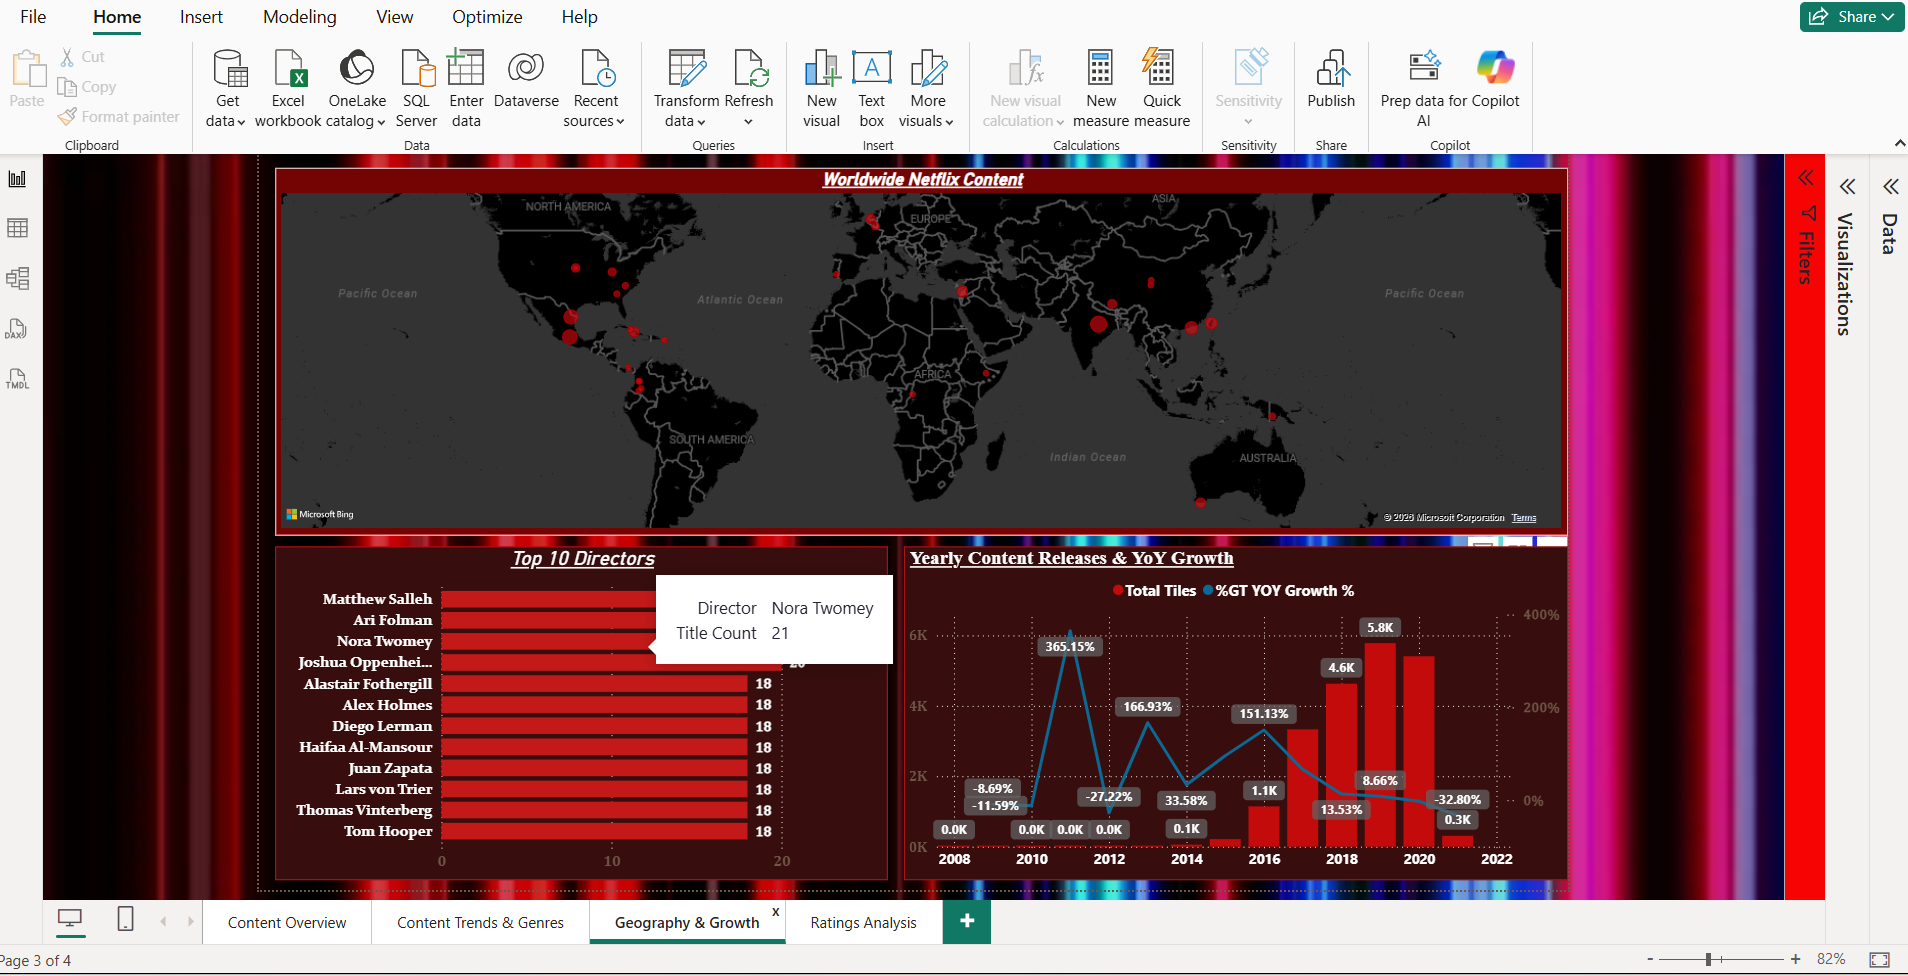

The page's visual inventory and layout, read from the dashboard file:
{"tool":"powerbi","page":{"name":"Page 4","canvas":[1280,720],"ordinal":2},"visuals":[{"type":"map","title":"Worldwide Netflix Content","fields":{"Category":["Netflix Dataset.Country"],"Size":["Count(Netflix Dataset.Show_Id)"]},"box":[15.9,13.5,1264.4,359.5],"z":0},{"type":"clusteredBarChart","title":"Top 10 Directors","fields":{"Category":["Netflix Dataset.Director"],"Y":["Measure  Table1.Title Count"]},"box":[15.9,384,599.2,326.5],"z":1000},{"type":"lineClusteredColumnComboChart","title":"Yearly Content Releases & YoY Growth","fields":{"Category":["Netflix Dataset.Release Year"],"Y2":["Measure  Table1.YOY Growth %"],"Y":["Measure  Table1.Total Tiles"]},"box":[631,384,649.3,326.5],"z":2000}]}

Visuals, with their boxes on the page's 1280x720 design canvas (x1, y1, x2, y2). These are canvas units, not pixel positions in the 1908x976 screenshot, which may show the page scaled, cropped or inside an application window:
"Worldwide Netflix Content" map: [16,14,1280,373]
"Top 10 Directors" clusteredBarChart: [16,384,615,710]
"Yearly Content Releases & YoY Growth" lineClusteredColumnComboChart: [631,384,1280,710]
